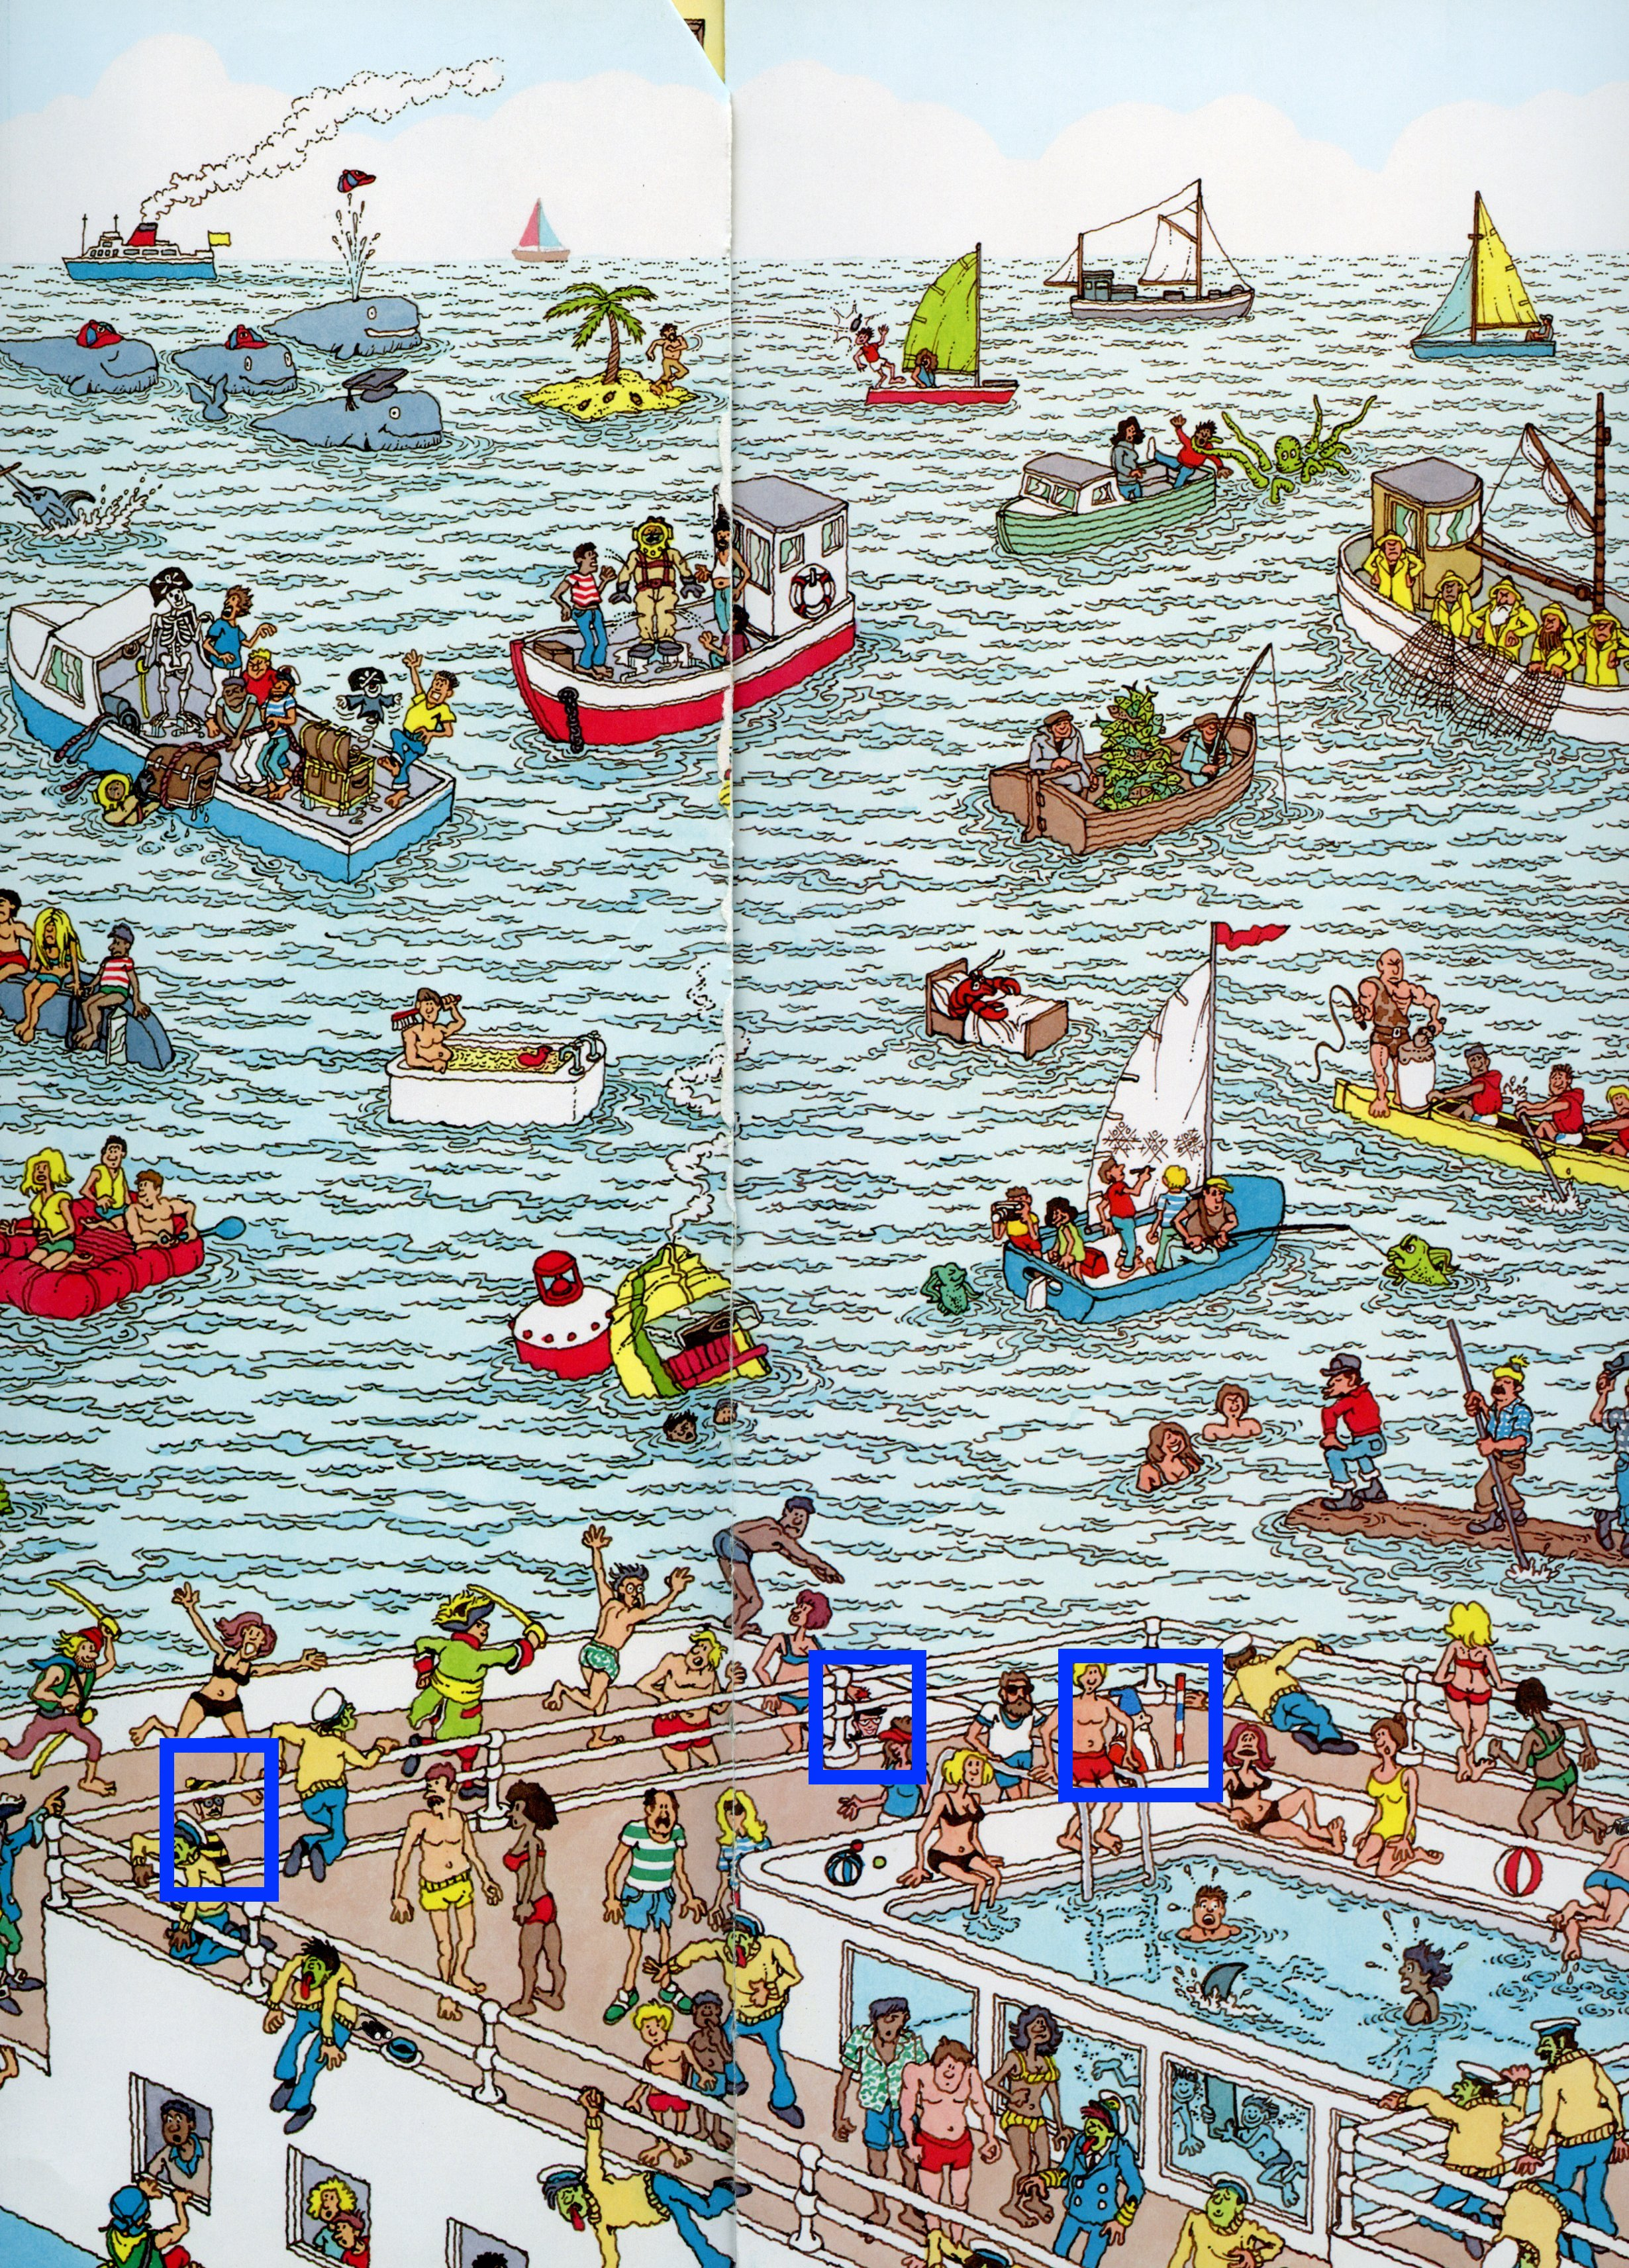odlaw: (162, 1742, 312, 1902)
waldo: (821, 1646, 951, 1787)
white beard: (1076, 1664, 1220, 1796)
